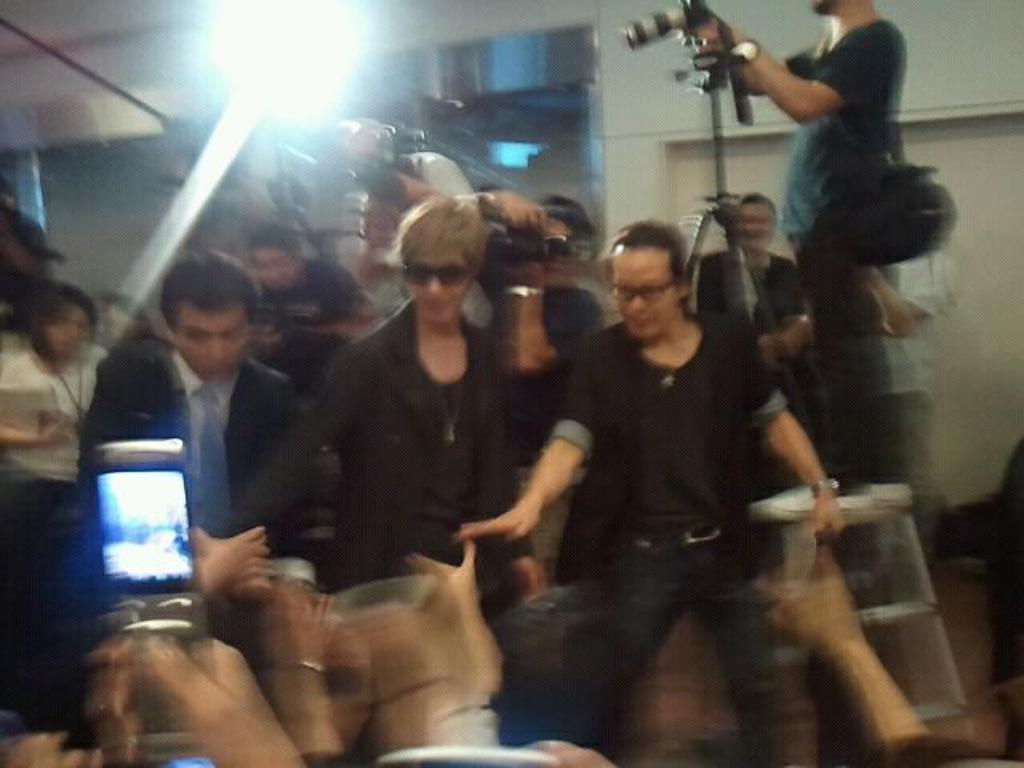face: (612, 249, 675, 337), (175, 316, 249, 380), (410, 244, 470, 321), (526, 217, 567, 283), (90, 305, 129, 356), (46, 307, 88, 353), (739, 204, 774, 250), (254, 248, 292, 288), (366, 212, 397, 258)
